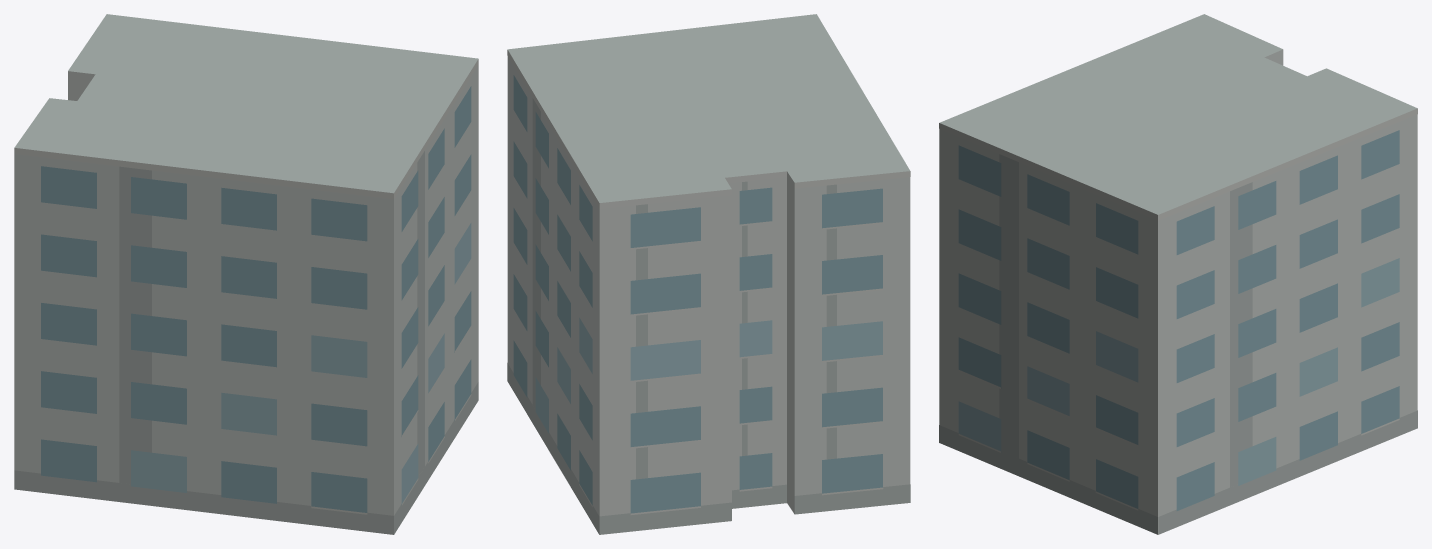
The model's file is survey-upis-32885058.glb.
3 renders of one model, left to right at view 1: azimuth 30°, elevation 25°; view 2: azimuth 150°, elevation 25°; view 3: azimuth 270°, elevation 25°, orthographic. The views are drawn at different scales.
Visible parts, largest first — view 1: survey-upis-32885058.tmp; view 2: survey-upis-32885058.tmp; view 3: survey-upis-32885058.tmp.
Boxes of the visible parts, <box> form: survey-upis-32885058.tmp: <box>14,14,478,534</box>; survey-upis-32885058.tmp: <box>507,14,910,534</box>; survey-upis-32885058.tmp: <box>939,14,1417,534</box>.
Bounding box in the file's own units: 17.92 × 13.3 × 18.03.
